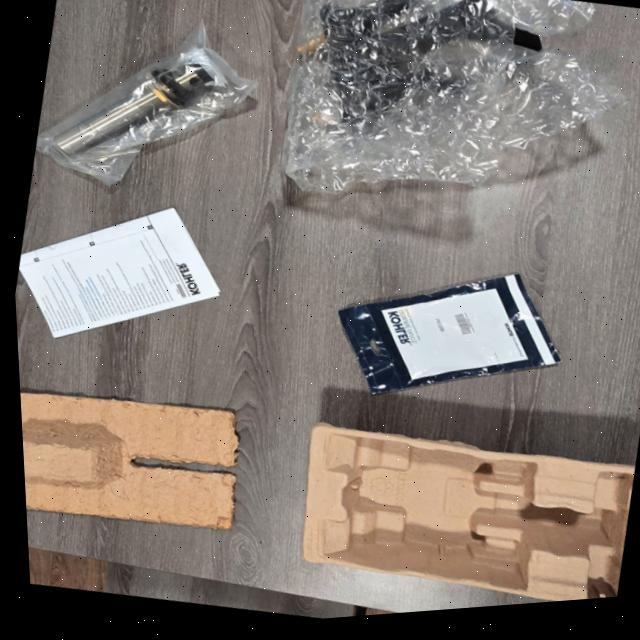11: (35, 21, 254, 184)
12: (338, 274, 558, 394)
8: (18, 208, 219, 337)
9c: (285, 0, 622, 193)
